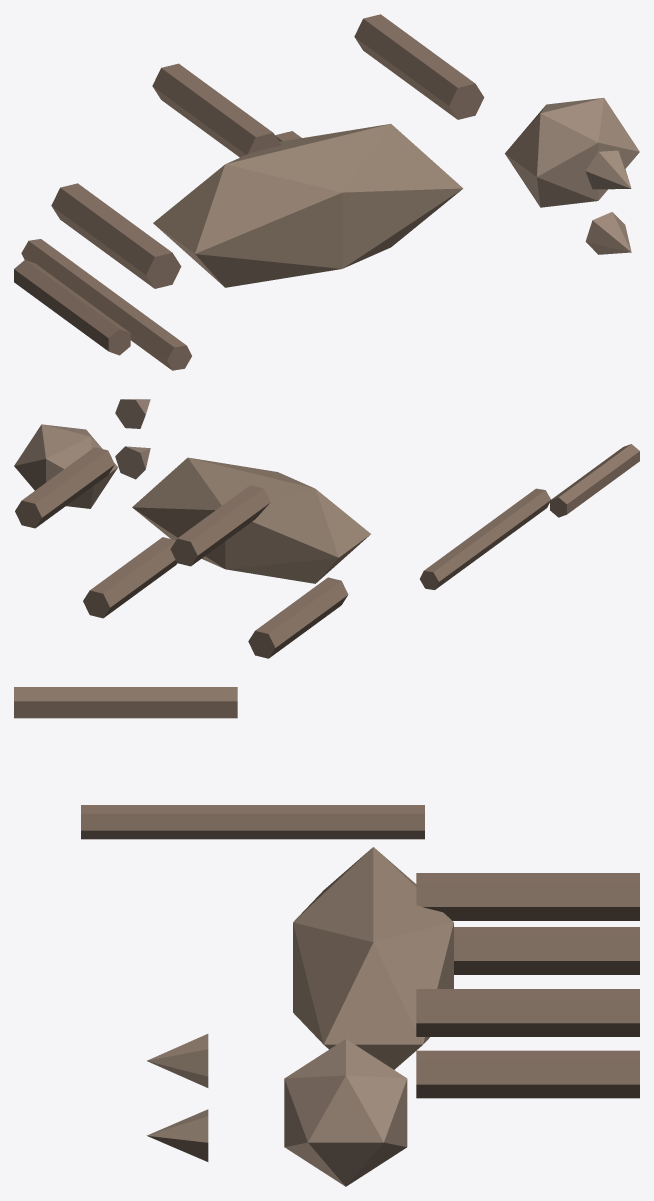
Rendered from howler_monkey.glb.
The picture shows the model from 3 angles, top to bottom: view 1: azimuth 30°, elevation 25°; view 2: azimuth 150°, elevation 25°; view 3: azimuth 270°, elevation 25°; orthographic projection. The views are drawn at different scales.
Visible parts, largest first — view 1: world; view 2: world; view 3: world.
Part boxes in pixels (left/top/right/bottom): world: left=14, top=14, right=639, bottom=370; world: left=14, top=399, right=639, bottom=658; world: left=14, top=687, right=639, bottom=1186.
Bounding box in the file's own units: 2.6 × 0.5106 × 1.82.
